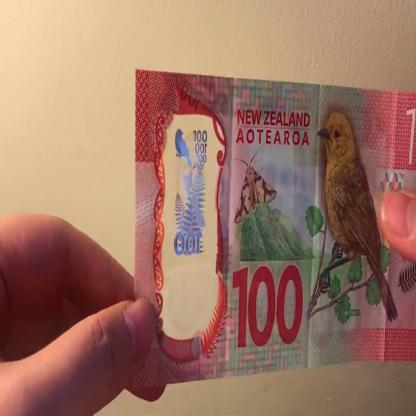100B: (168, 124, 213, 303)
